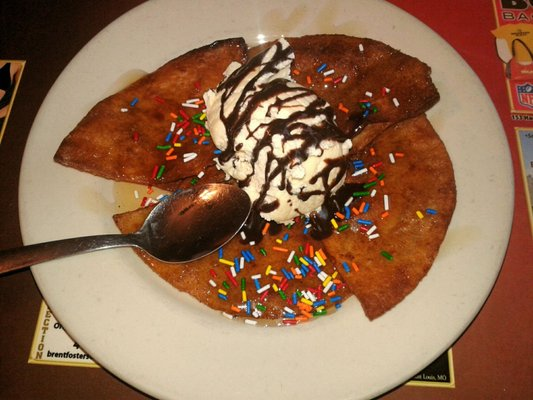salad: (0, 179, 247, 280)
